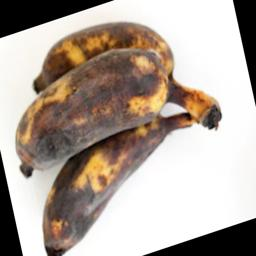Banana Rotten: (5, 0, 242, 237)
